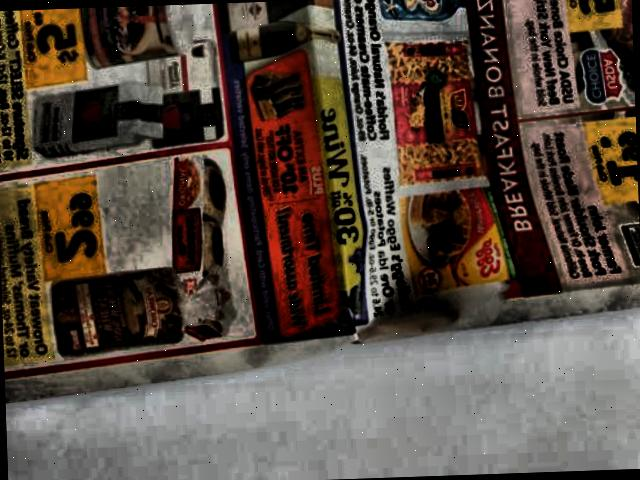Paper: (0, 0, 640, 409)
